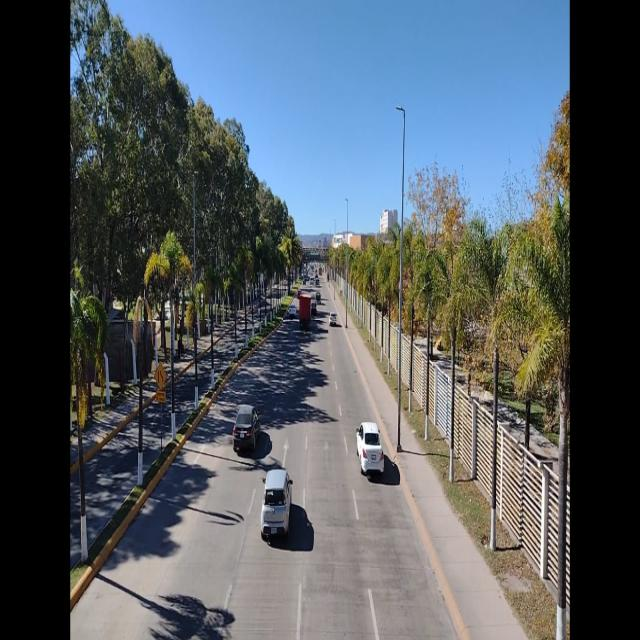Auto: (262, 464, 294, 542), (232, 396, 262, 456), (356, 421, 384, 477), (329, 312, 337, 325), (290, 305, 296, 318), (312, 304, 316, 314)
